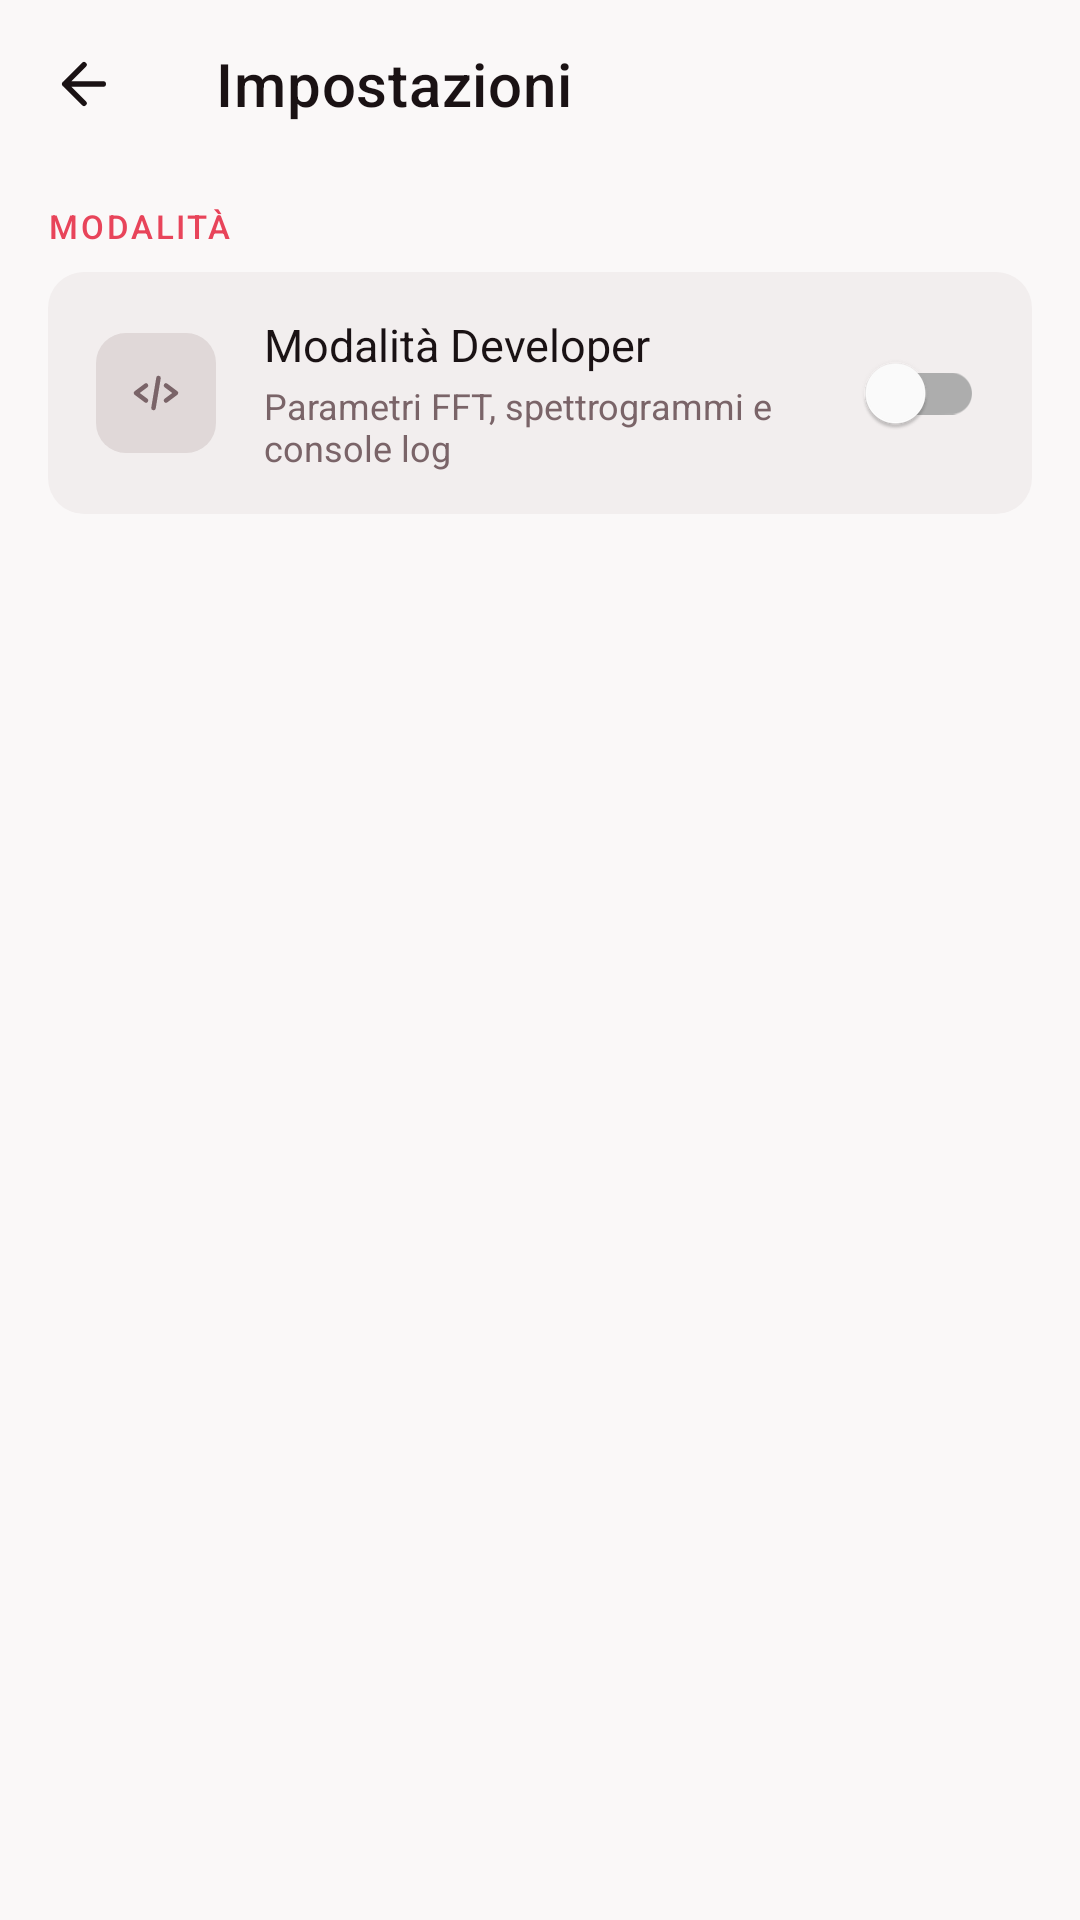

Locate icon controls on the screen. Image size 1080px x 1920px, boxes as Rect(x1, y1, x2, y2).
dev: Rect(134, 375, 178, 411)
